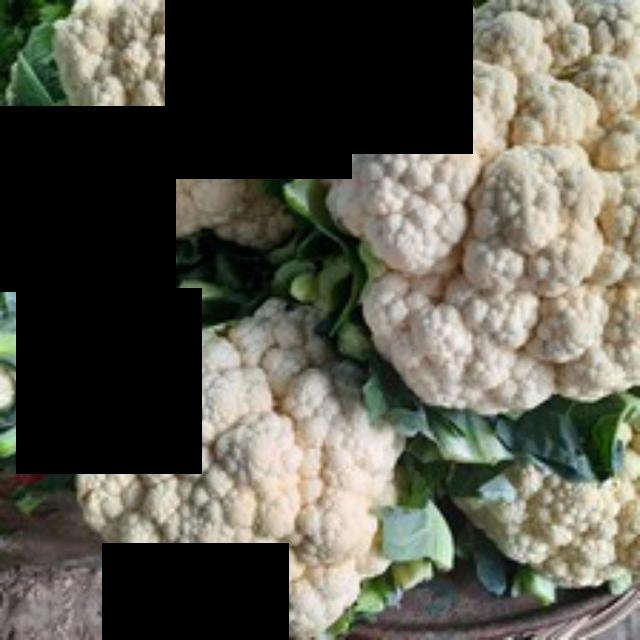cauliflower: (308, 0, 637, 420)
